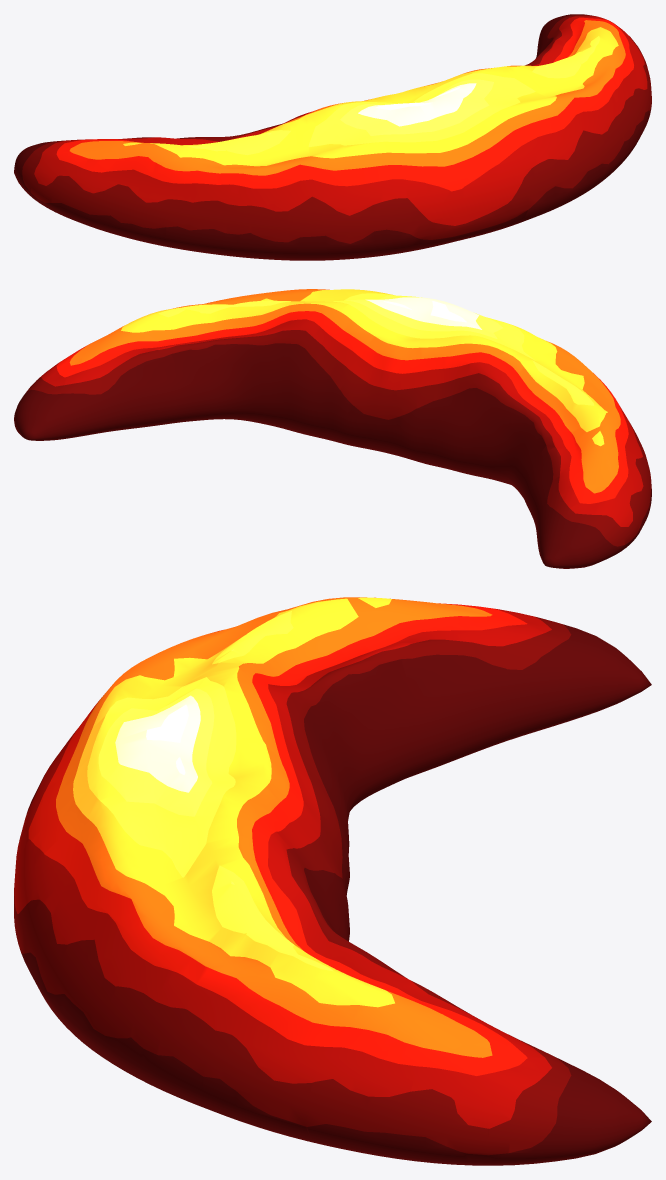
File: fire_crescent_117.glb
3 views of the same model, one above another, from view 1: azimuth 30°, elevation 25°; view 2: azimuth 150°, elevation 25°; view 3: azimuth 270°, elevation 25° (orthographic). The views are drawn at different scales.
Parts seen in each view (by area): view 1: fire_crescent_117; view 2: fire_crescent_117; view 3: fire_crescent_117.
Part boxes in pixels (x1,y1,x2,y2): fire_crescent_117: [14, 14, 651, 260]; fire_crescent_117: [14, 289, 651, 568]; fire_crescent_117: [14, 597, 651, 1165].
Size of the model in its own units: 24.07 by 5.1 by 12.98.
